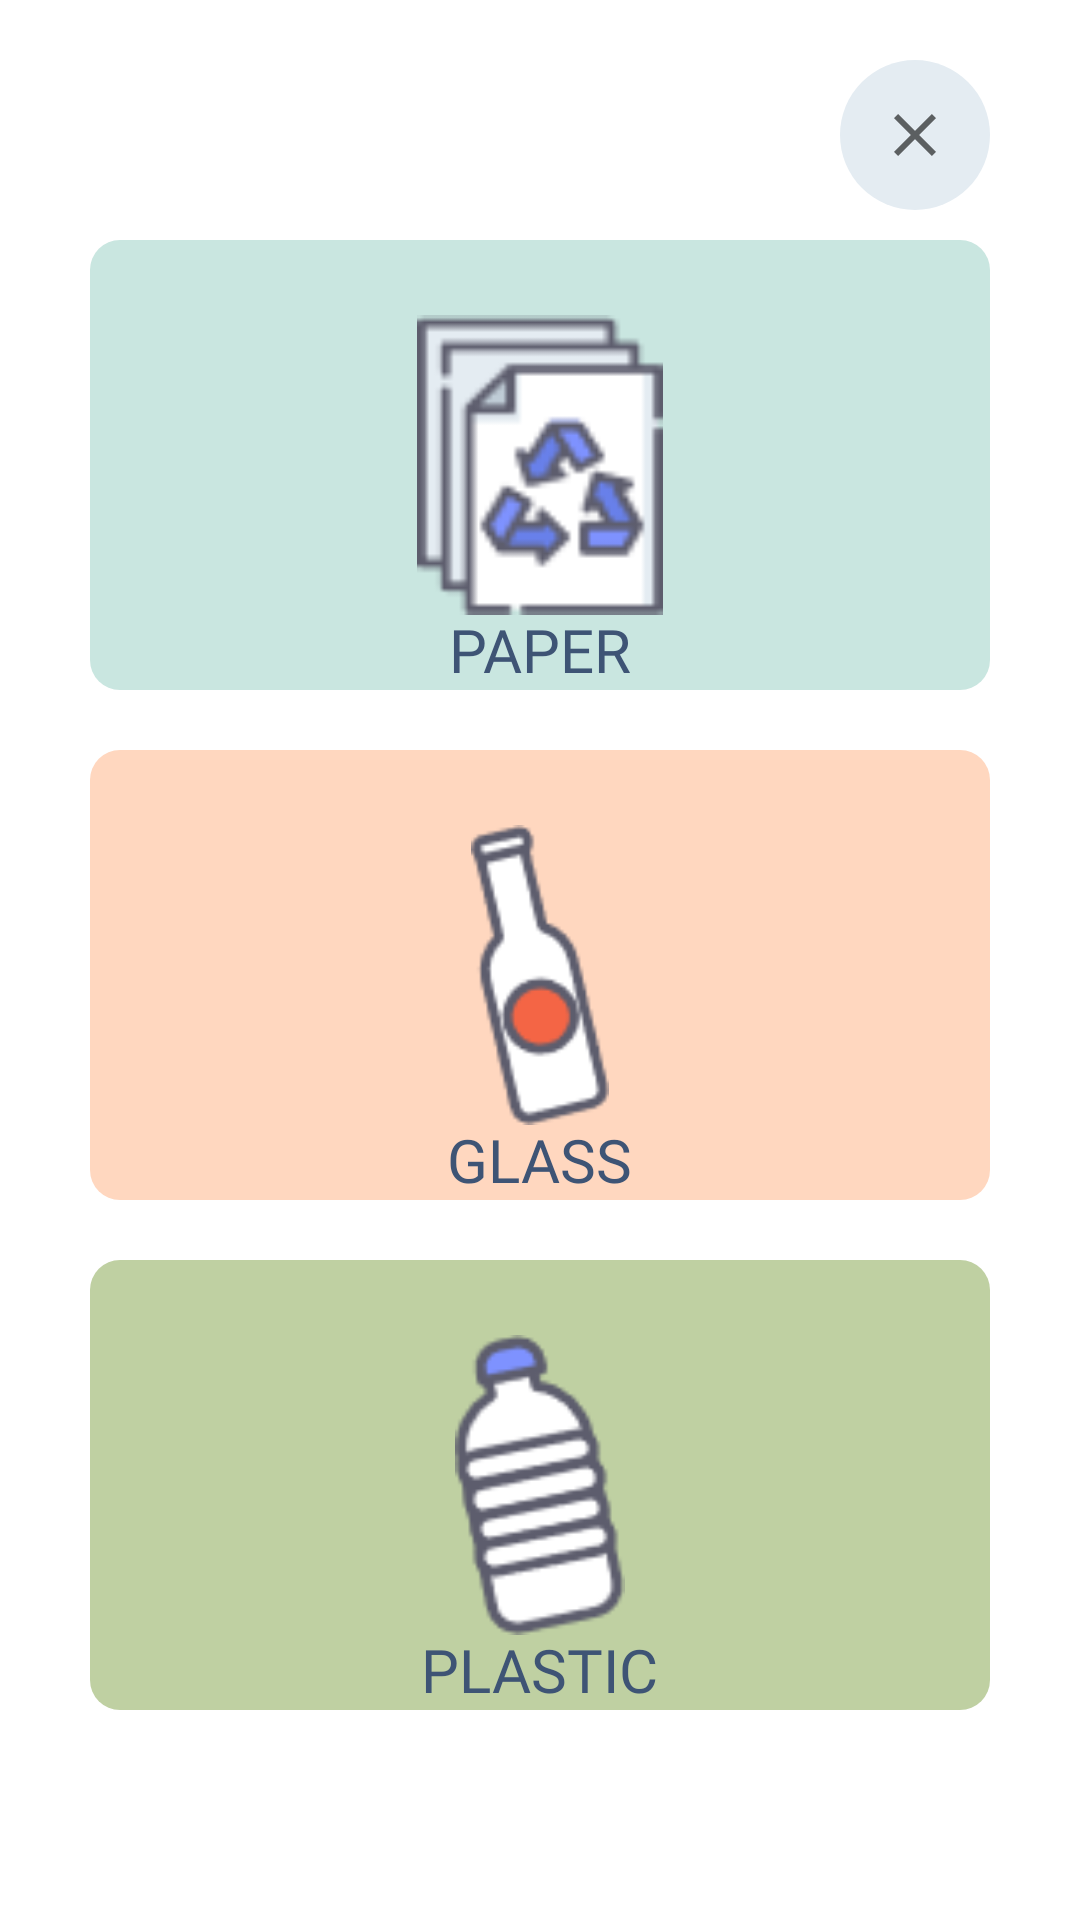

Locate icon controls on the screen. Image size 1080×1920, boxes as region(x1, y1, x2, y2).
close: region(840, 60, 990, 210)
